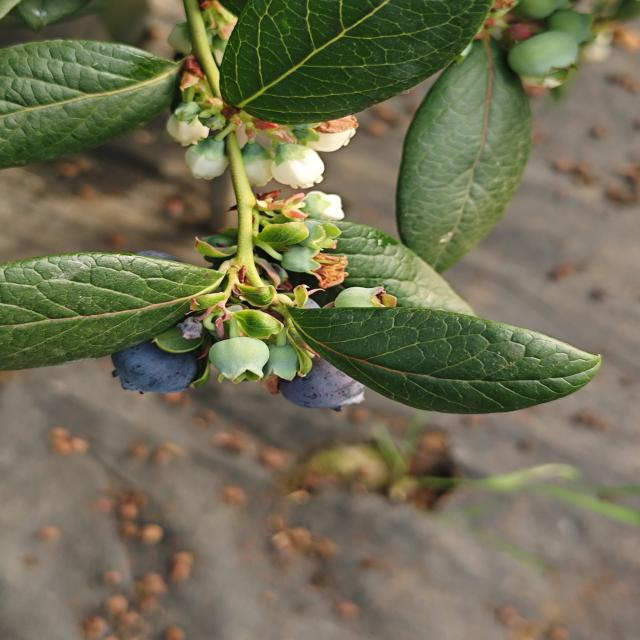ripe: (276, 353, 368, 413), (108, 338, 202, 396)
